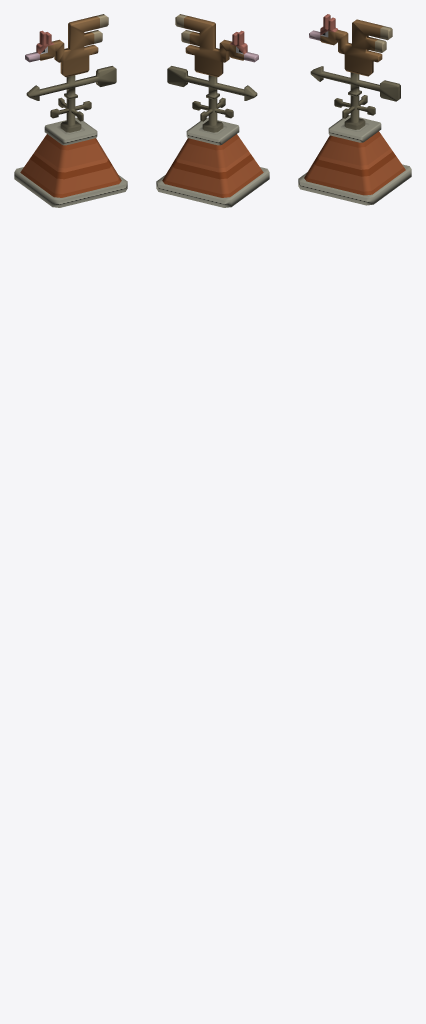
The model's file is G_makeover_S_3.fbx.
3 views of the same model, side by side, from view 1: azimuth 30°, elevation 25°; view 2: azimuth 150°, elevation 25°; view 3: azimuth 330°, elevation 25° (orthographic).
Parts seen in each view (by area): view 1: base, bird; view 2: base, bird; view 3: base, bird.
Boxes of the visible parts, x1,y1,x2,y2 form: base: [14, 97, 127, 207]; bird: [25, 14, 116, 100]; base: [156, 97, 269, 207]; bird: [167, 14, 258, 100]; base: [298, 95, 411, 205]; bird: [309, 14, 400, 101].
Bounding box in the file's own units: 3.36 × 35.79 × 2.85.
